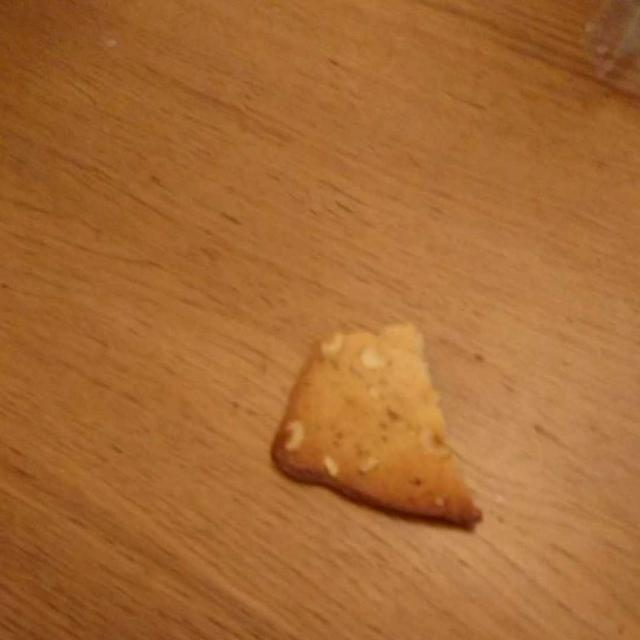biscuit: (272, 324, 478, 528)
